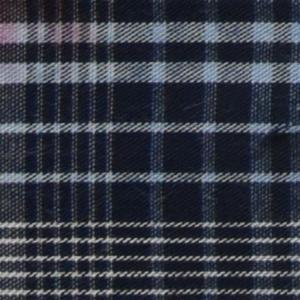Stain: (1, 1, 104, 61)
